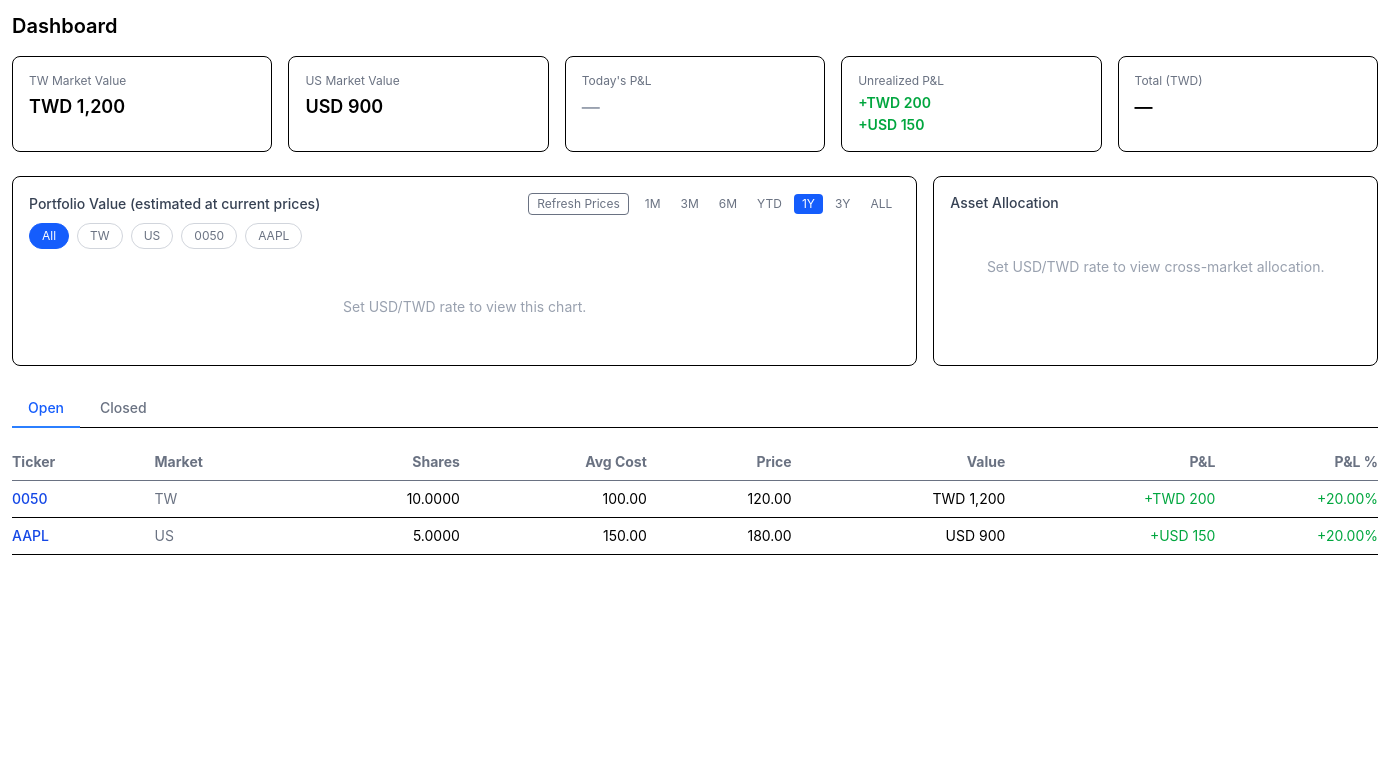
Dashboard › shows closed positions when Closed tab is clicked
Check: the link "0050" is shown, box x1=12 y1=490 x2=48 y2=507
Click the button "closed": (123,409) x1=84 y1=390 x2=163 y2=428
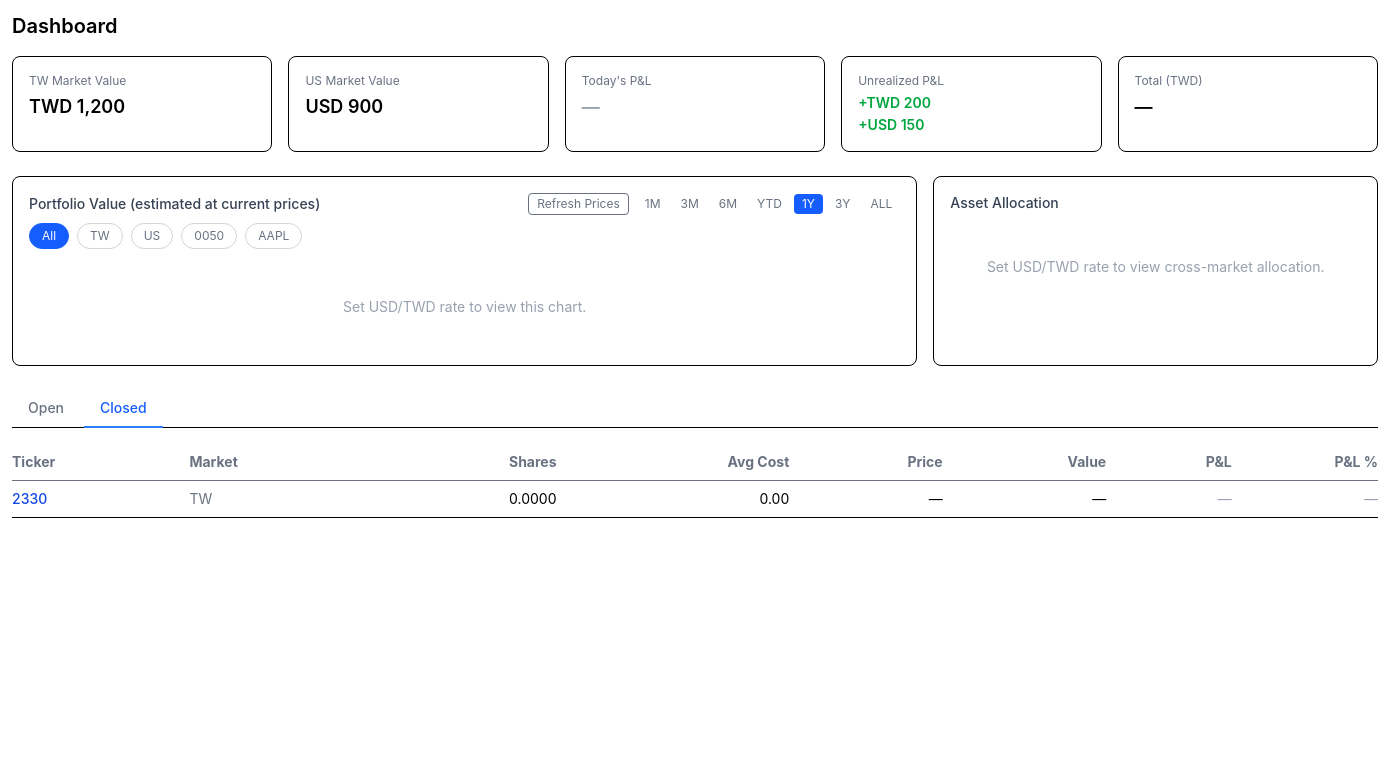
Check: the link "2330" is shown, box x1=12 y1=490 x2=47 y2=507
